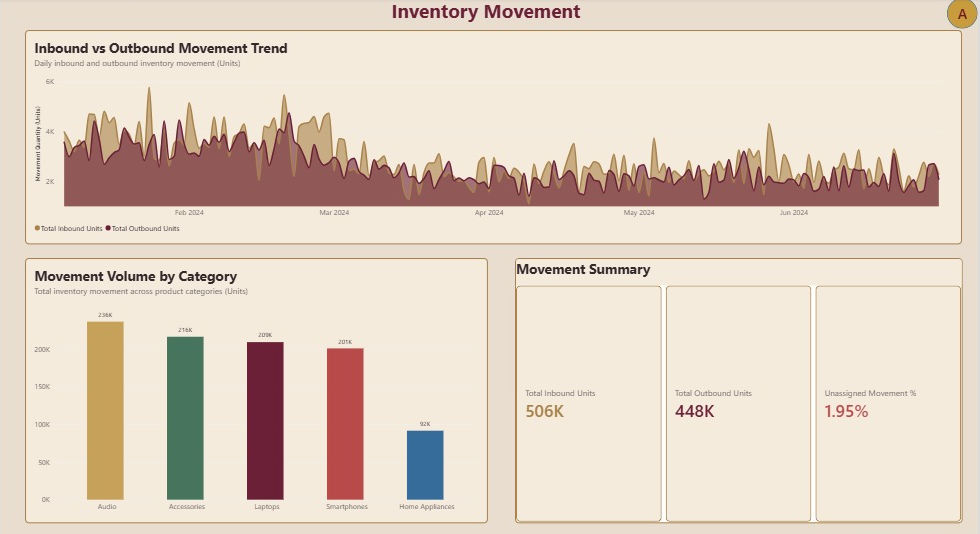

The page's visual inventory and layout, read from the dashboard file:
{"tool":"powerbi","page":{"name":"Inventory Movement","canvas":[1920,1080],"ordinal":2},"visuals":[{"type":"textbox","box":[50,0,1810.1,62.6],"z":1000},{"type":"areaChart","title":"Inbound vs Outbound Movement Trend","fields":{"Category":["DateTable.Date"],"Y":["_Measures.Total Inbound Units","_Measures.Total Outbound Units"]},"box":[49.7,62.6,1840.3,421.2],"z":2000},{"type":"columnChart","title":"Movement Volume by Category","fields":{"Category":["Dim_Product.Category"],"Y":["_Measures.Total Movement Volume"]},"box":[49.7,509.8,909.4,520.6],"z":3000},{"type":"cardVisual","title":"Movement Summary","fields":{"Data":["_Measures.Total Inbound Units","_Measures.Total Outbound Units","_Measures.Unassigned Movement %"]},"box":[1010.9,509.8,879.1,520.6],"z":7000},{"type":"shape","box":[1859.8,0,60,60],"z":8000},{"type":"textbox","title":"Designed & developed by Mirza Afzal Baig | Afzalytics","box":[1413.4,1062.3,506.6,17.7],"z":9000}]}

Visuals, with their boxes on the page's 1920x1080 design canvas (x1, y1, x2, y2). These are canvas units, not pixel positions in the 980x534 screenshot, which may show the page scaled, cropped or inside an application window:
textbox: <bbox>50, 0, 1860, 63</bbox>
"Inbound vs Outbound Movement Trend" areaChart: <bbox>50, 63, 1890, 484</bbox>
"Movement Volume by Category" columnChart: <bbox>50, 510, 959, 1030</bbox>
"Movement Summary" cardVisual: <bbox>1011, 510, 1890, 1030</bbox>
shape: <bbox>1860, 0, 1920, 60</bbox>
"Designed & developed by Mirza Afzal Baig | Afzalytics" textbox: <bbox>1413, 1062, 1920, 1080</bbox>
